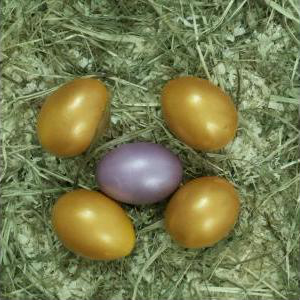egg: (52, 189, 136, 262), (162, 76, 238, 151), (37, 78, 108, 157), (165, 176, 239, 247), (97, 145, 184, 201)
